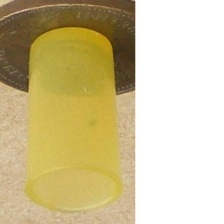glass: (17, 20, 132, 215)
